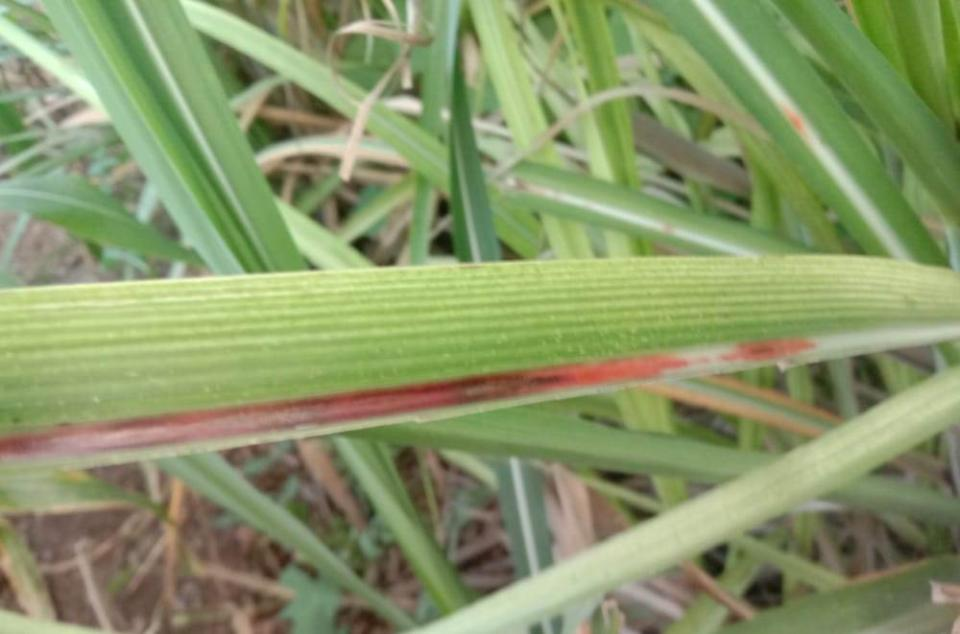RedRot: (0, 336, 816, 464), (781, 103, 808, 139)
